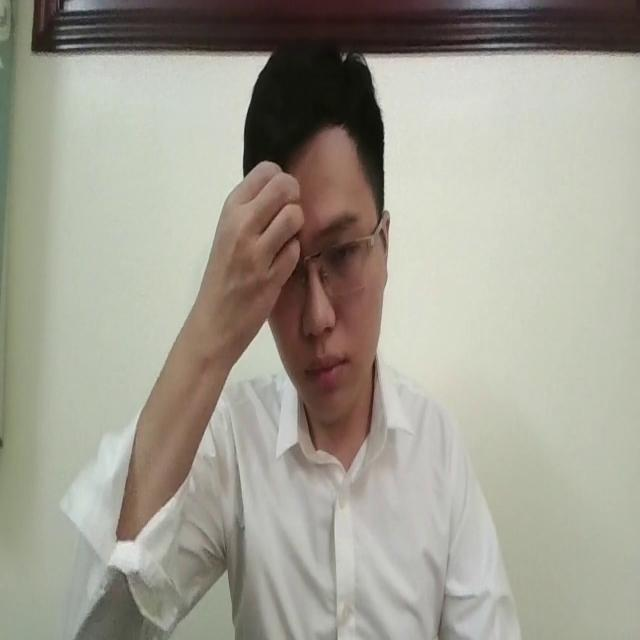student: (60, 31, 522, 640)
